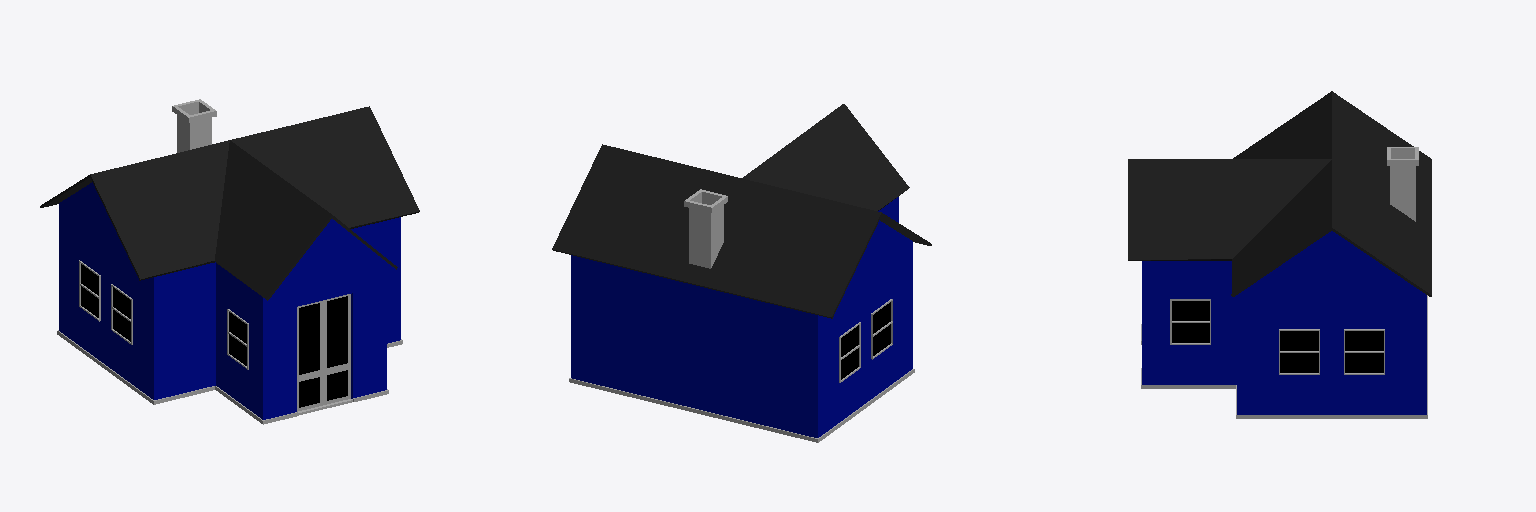
The model's file is house.obj.
3 views of the same model, side by side, from view 1: azimuth 30°, elevation 25°; view 2: azimuth 150°, elevation 25°; view 3: azimuth 270°, elevation 25° (orthographic).
Visible parts, largest first — view 1: House; view 2: House; view 3: House.
Part boxes in pixels (x1,y1,x2,y2): House: (40,99,419,424); House: (552,104,931,442); House: (1128,91,1431,418).
Size of the model in its own units: 6.79 by 4.76 by 6.41.